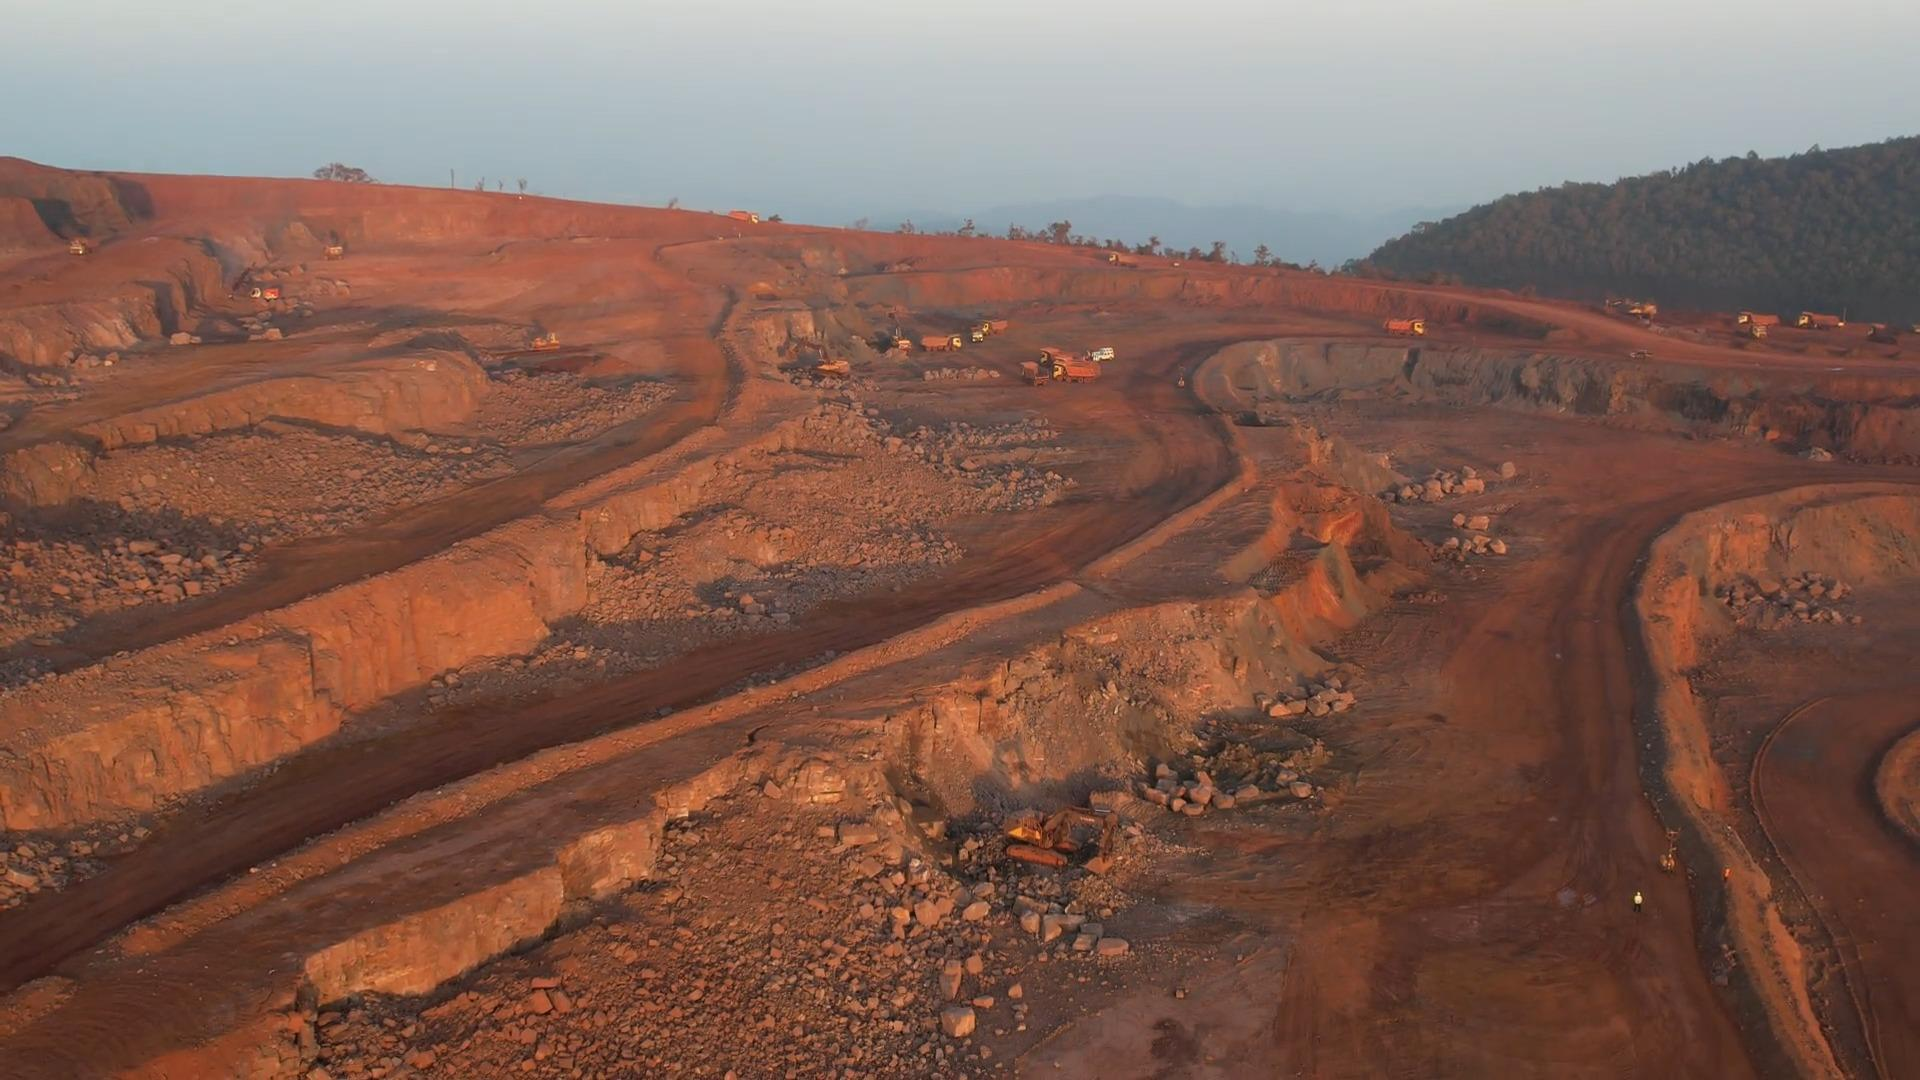excavator: (1007, 804, 1126, 873)
